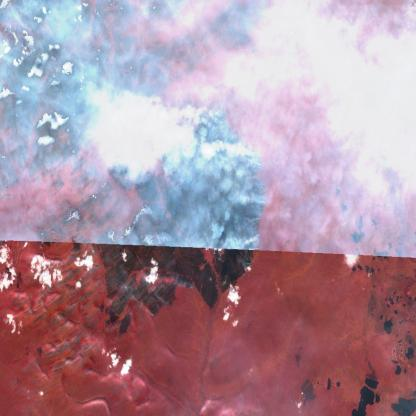fire: (186, 100, 267, 290)
